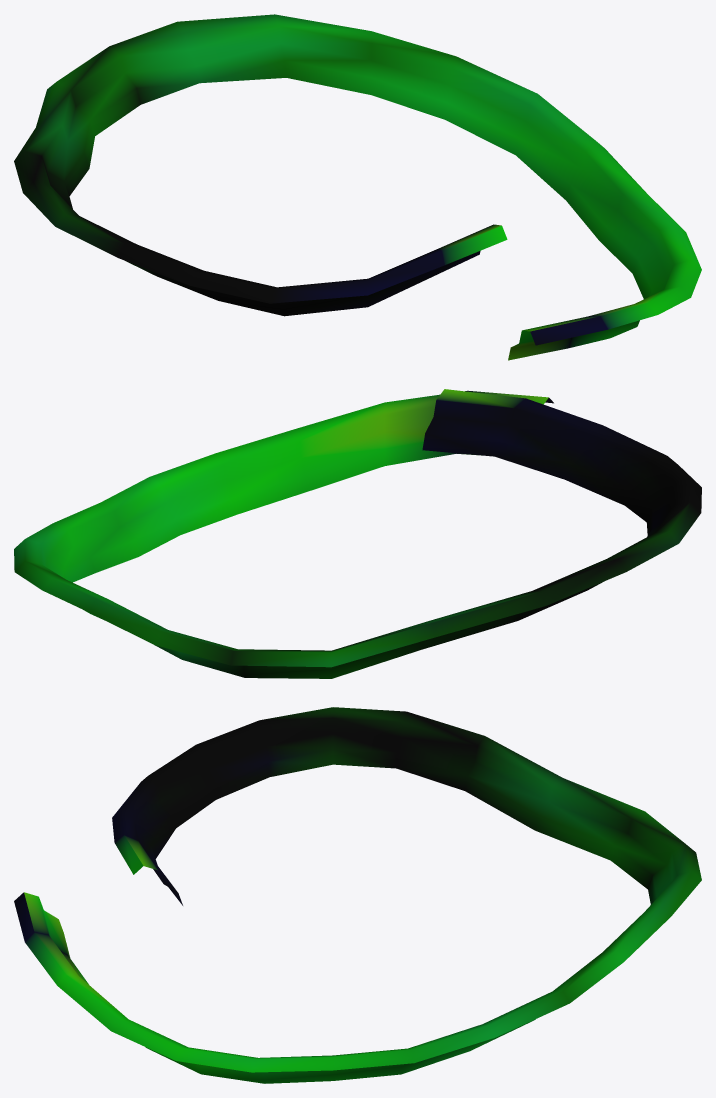
File: sertz__uni_ring_warped.glb
3 views of the same model, one above another, from view 1: azimuth 30°, elevation 25°; view 2: azimuth 150°, elevation 25°; view 3: azimuth 270°, elevation 25° (orthographic). The views are drawn at different scales.
Parts seen in each view (by area): view 1: uni_ring_warped; view 2: uni_ring_warped; view 3: uni_ring_warped.
Part boxes in pixels (left/top/right/bottom): uni_ring_warped: left=14, top=14, right=701, bottom=360; uni_ring_warped: left=14, top=389, right=701, bottom=678; uni_ring_warped: left=14, top=707, right=701, bottom=1083.
Size of the model in its own units: 248 by 64 by 276.
